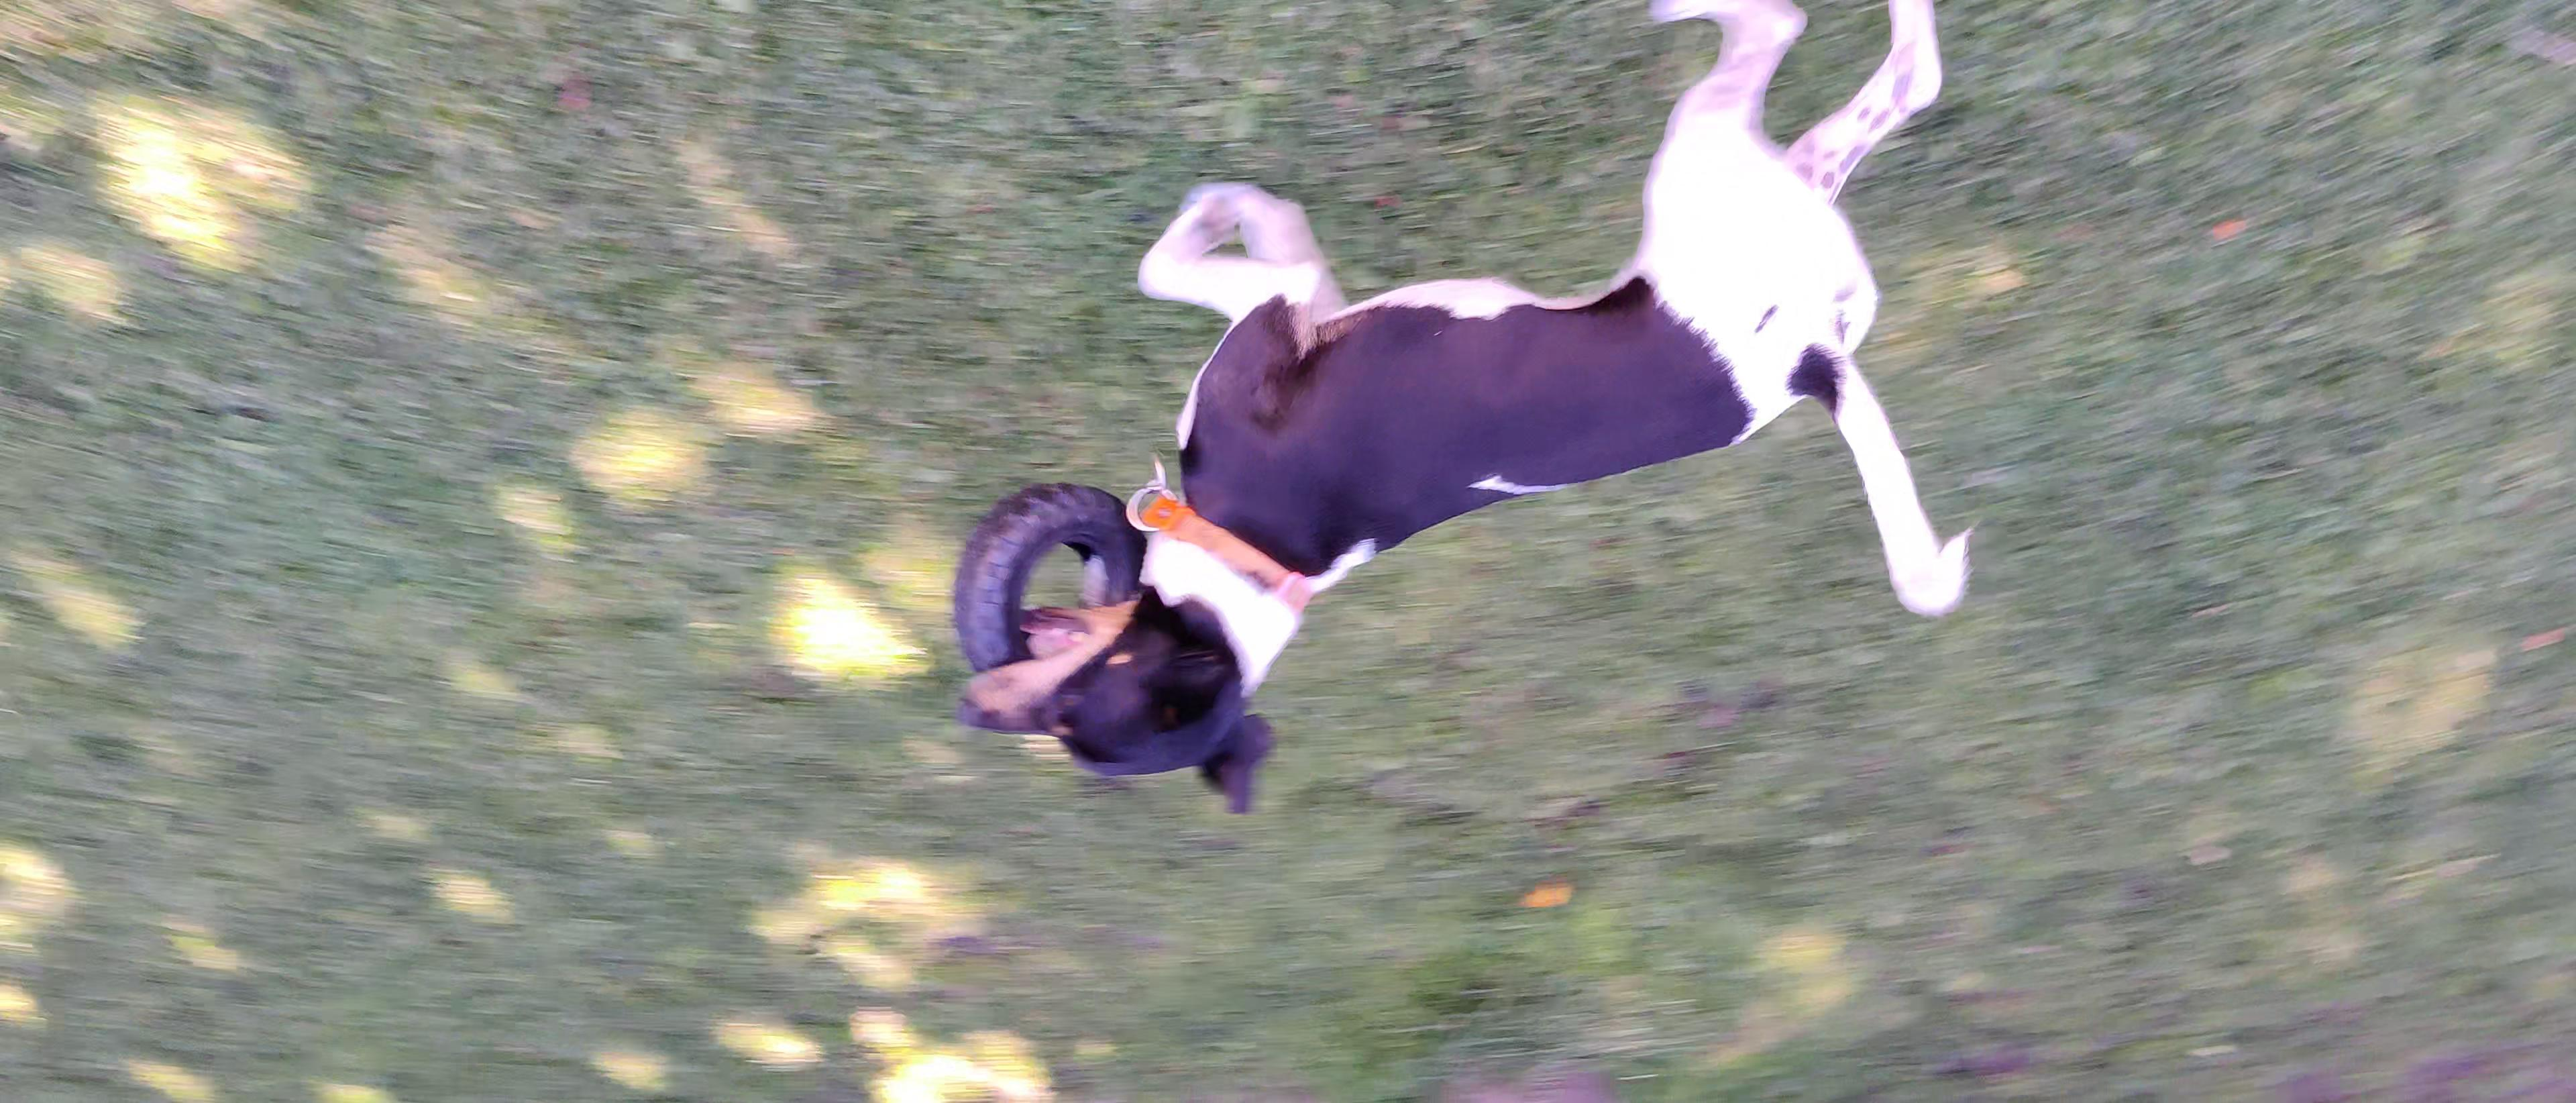Dog: (948, 0, 2022, 832)
